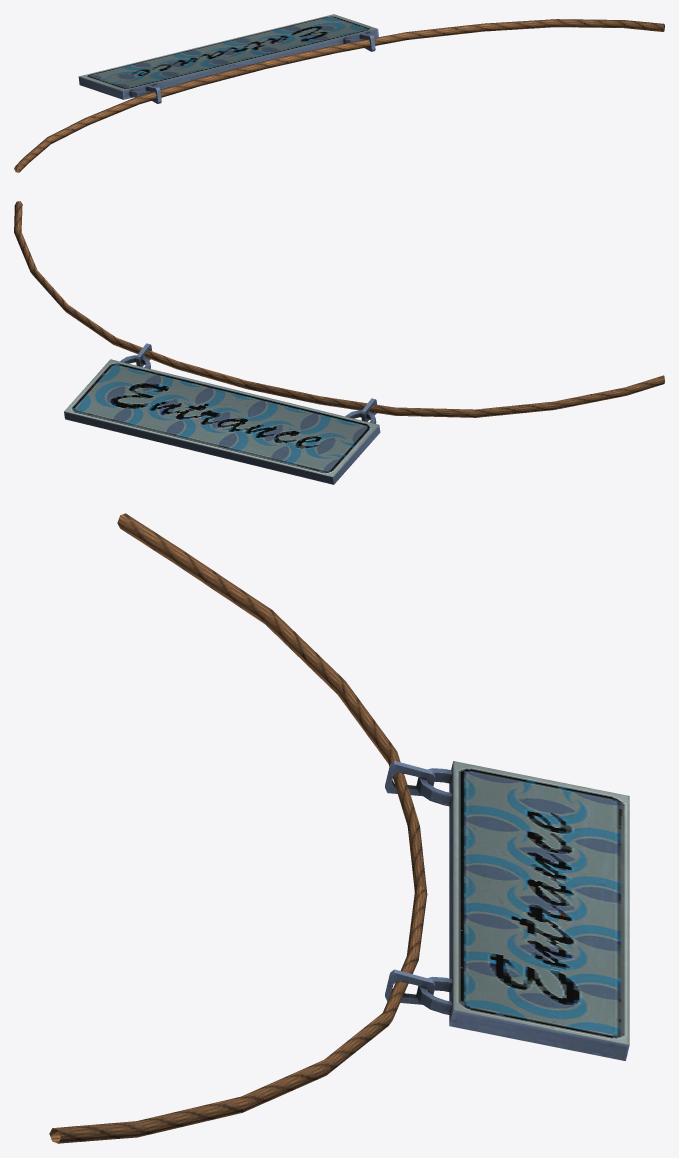
File: fxanim_mp_nuked2025_gate_sign03_mod_LOD0.obj
The picture shows the model from 3 angles, top to bottom: view 1: azimuth 30°, elevation 25°; view 2: azimuth 150°, elevation 25°; view 3: azimuth 270°, elevation 25°; orthographic projection. The views are drawn at different scales.
Parts seen in each view (by area): view 1: mtl_nt_2020_street_gate_01; view 2: mtl_nt_2020_street_gate_01; view 3: mtl_nt_2020_street_gate_01.
Boxes of the visible parts, x1,y1,x2,y2 form: mtl_nt_2020_street_gate_01: (14,14,664,172); mtl_nt_2020_street_gate_01: (14,201,664,484); mtl_nt_2020_street_gate_01: (49,513,629,1143).
Bounding box in the file's own units: 125 × 10.76 × 49.52.
